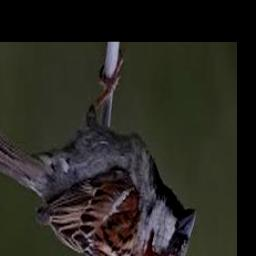Sparrow: (0, 54, 196, 256)
